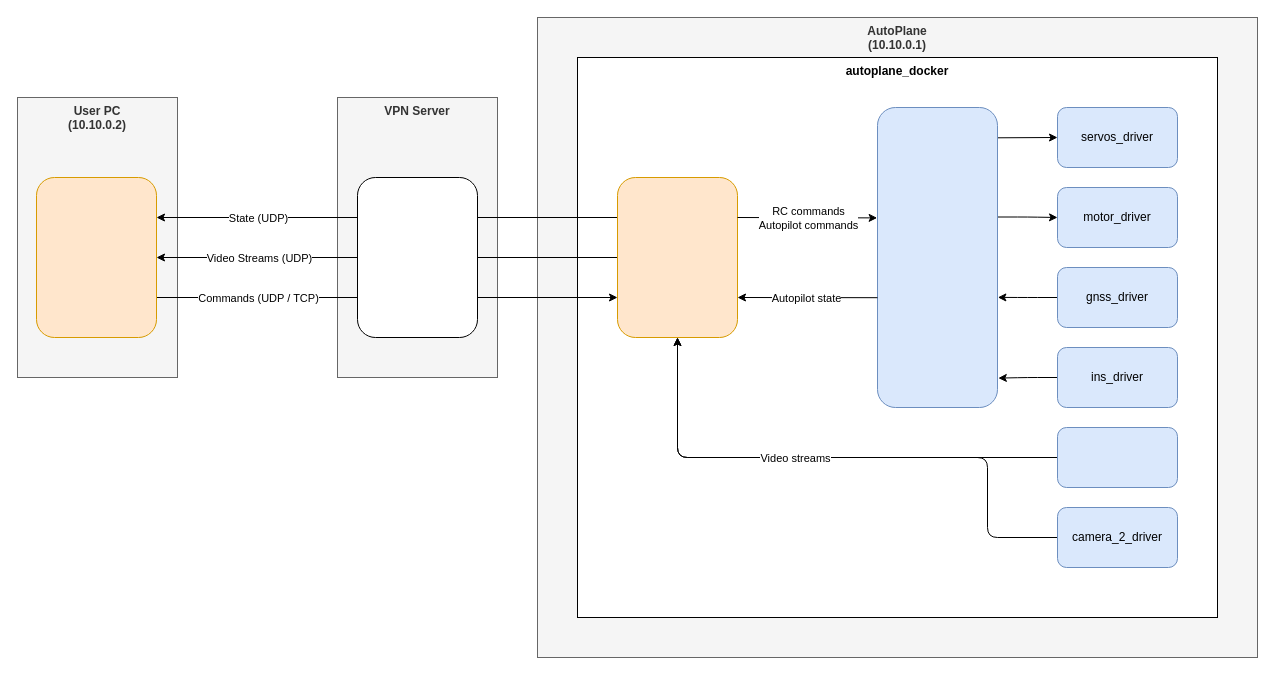
Image size: 1275x675. Some labels were removed from this diagram. The centre of each missing label's shape, as x and y in pixels:
"autopilot" goes at point (937, 257).
"autoplane-hmi" goes at point (96, 257).
"camera_1_driver" goes at point (1117, 457).
"hmi_bridge" goes at point (677, 257).
"OpenVPN AccesServer" goes at point (417, 257).
